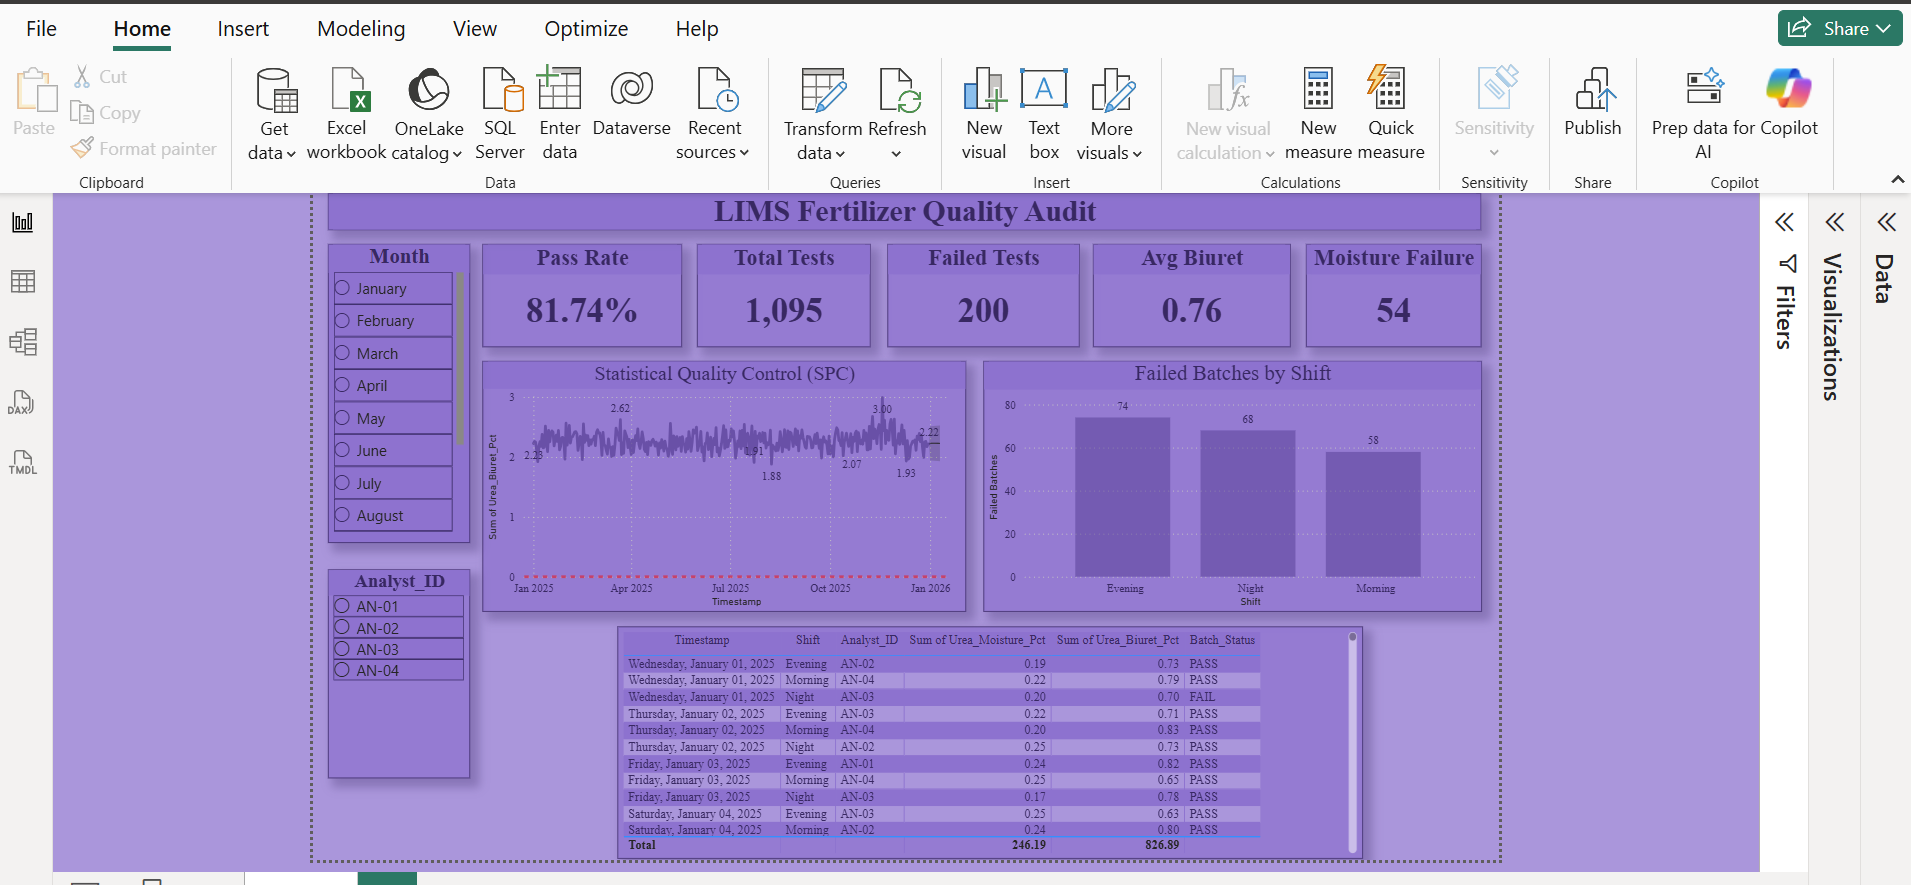

The page's visual inventory and layout, read from the dashboard file:
{"tool":"powerbi","page":{"name":"Page 1","canvas":[1280,720],"ordinal":0},"visuals":[{"type":"card","title":"Pass Rate","fields":{"Values":["Table1.Pass Rate %"]},"box":[183.2,55.8,215.1,111.5],"z":0},{"type":"textbox","title":"LIMS Fertilizer Quality Audit","box":[15.9,0,1244.8,39.8],"z":1000},{"type":"card","title":"Total Tests","fields":{"Values":["CountNonNull(Table1.Batch_Status)"]},"box":[414.3,55.8,187.2,111.5],"z":2000},{"type":"card","title":"Failed Tests","fields":{"Values":["Table1.Failed Batches"]},"box":[619.4,55.8,207.1,111.5],"z":3000},{"type":"card","title":"Moisture Failure","fields":{"Values":["Table1.Moisture Failures"]},"box":[1071.6,55.8,189.2,111.5],"z":4000},{"type":"card","title":"Avg Biuret","fields":{"Values":["Avg(Table1.Urea_Biuret_Pct)"]},"box":[842.5,55.8,213.1,111.5],"z":5000},{"type":"lineChart","title":"Statistical Quality Control (SPC)","fields":{"Category":["Table1.Timestamp"],"Y":["Sum(Table1.Urea_Biuret_Pct)"]},"box":[183.2,181.2,521.8,270.9],"z":5001},{"type":"clusteredColumnChart","fields":{"Category":["Table1.Shift"],"Y":["Table1.Failed Batches"]},"box":[723,181.2,537.8,270.9],"z":5002},{"type":"tableEx","fields":{"Values":["Table1.Timestamp","Table1.Shift","Table1.Analyst_ID","Sum(Table1.Urea_Moisture_Pct)","Sum(Table1.Urea_Biuret_Pct)","Table1.Batch_Status"]},"box":[328.6,468.1,804.7,251],"z":5003},{"type":"listSlicer","fields":{"Values":["Table1.Timestamp.Variation.Date Hierarchy.Month"]},"box":[15.9,55.8,153.4,322.7],"z":5004},{"type":"listSlicer","fields":{"Values":["Table1.Analyst_ID"]},"box":[15.9,406.3,153.4,225.1],"z":5005}]}

Visuals, with their boxes on the page's 1280x720 design canvas (x1, y1, x2, y2). These are canvas units, not pixel positions in the 1911x885 screenshot, which may show the page scaled, cropped or inside an application window:
"Pass Rate" card: [183, 56, 398, 167]
"LIMS Fertilizer Quality Audit" textbox: [16, 0, 1261, 40]
"Total Tests" card: [414, 56, 602, 167]
"Failed Tests" card: [619, 56, 826, 167]
"Moisture Failure" card: [1072, 56, 1261, 167]
"Avg Biuret" card: [842, 56, 1056, 167]
"Statistical Quality Control (SPC)" lineChart: [183, 181, 705, 452]
clusteredColumnChart - Table1.Shift x Table1.Failed Batches: [723, 181, 1261, 452]
tableEx - Table1.Timestamp x Table1.Shift: [329, 468, 1133, 719]
listSlicer - Table1.Timestamp.Variation.Date Hierarchy.Month: [16, 56, 169, 378]
listSlicer - Table1.Analyst_ID: [16, 406, 169, 631]
